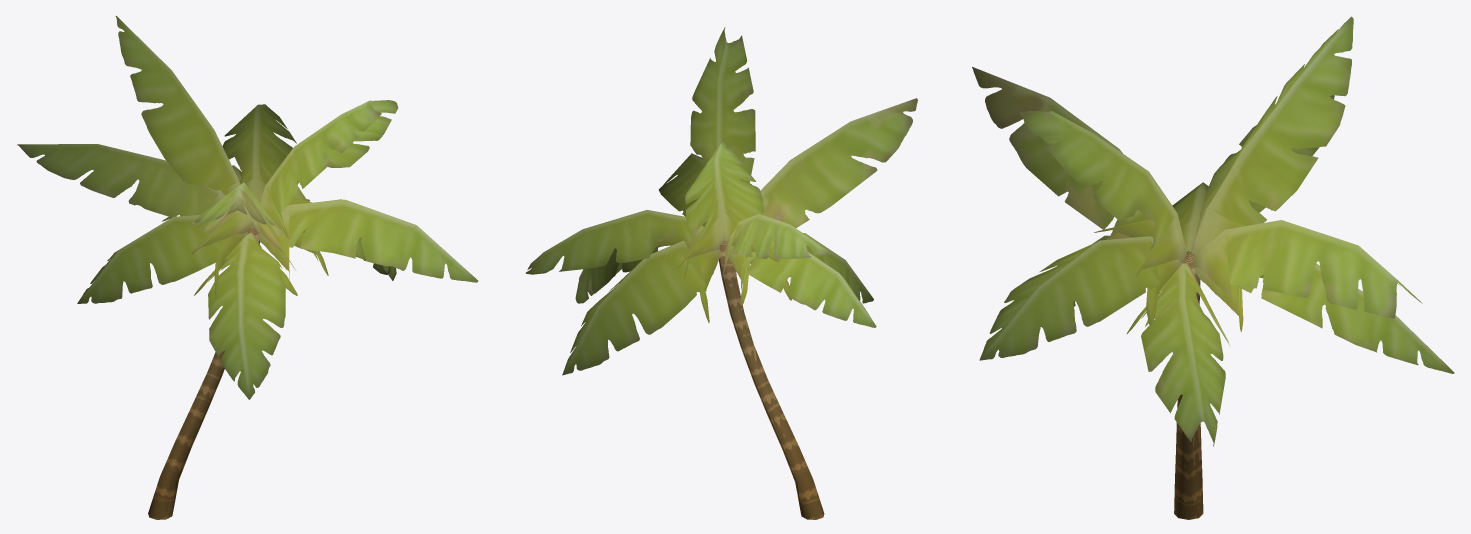
The model's file is coconut palm 03_lod4.obj.
The picture shows the model from 3 angles, left to right: view 1: azimuth 30°, elevation 25°; view 2: azimuth 150°, elevation 25°; view 3: azimuth 270°, elevation 25°; orthographic projection. The views are drawn at different scales.
Visible parts, largest first — view 1: tree; view 2: tree; view 3: tree.
Boxes of the visible parts, x1,y1,x2,y2 form: tree: (17,15,478,519); tree: (526,27,917,519); tree: (972,16,1454,519).
Bounding box in the file's own units: 369 × 464 × 407.
